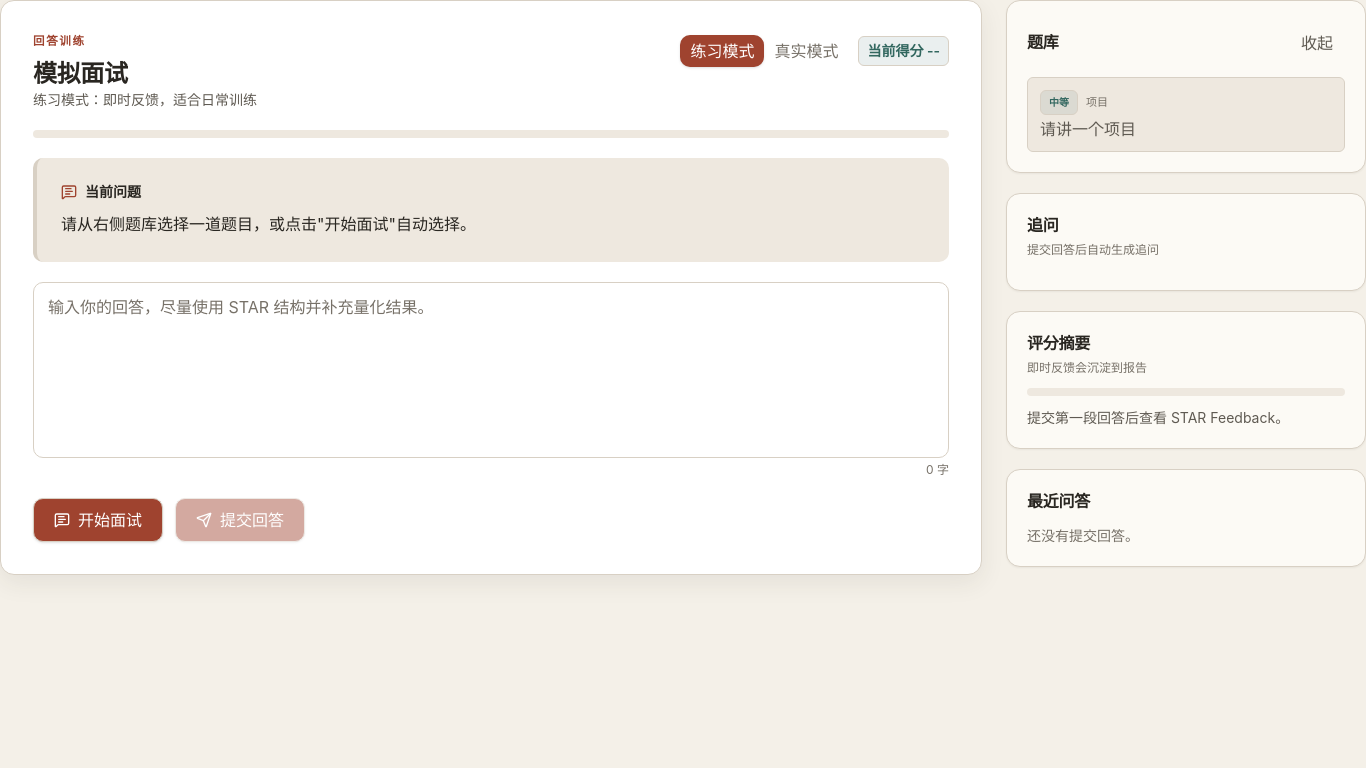
it: InterviewPage AI feedback › shows an AI fallback notice from scoring feedback
Click the button "开始面试": click(98, 520) [33,498,163,542]
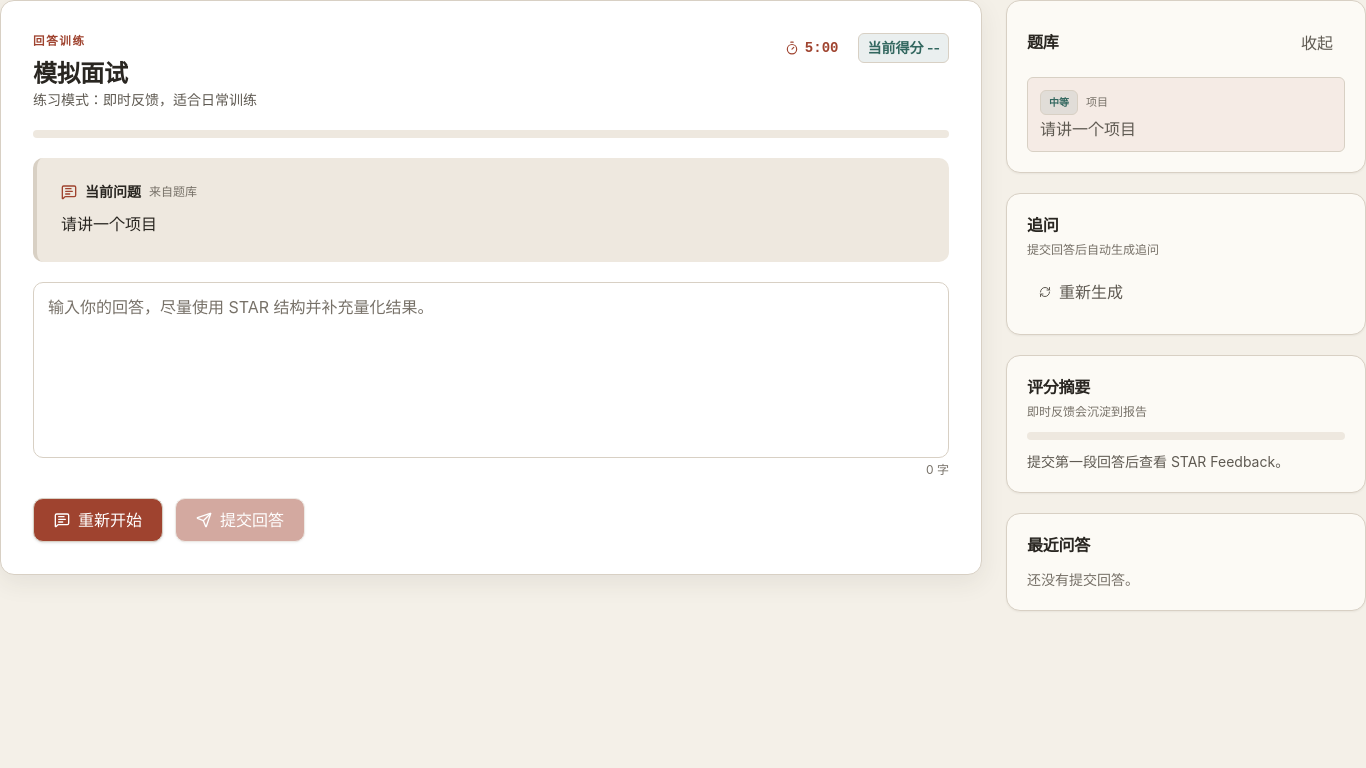
In the text box with placeholder "输入你的回答，尽量使用 STAR 结构并补充量化结果。": (491, 370) [33,282,949,458], type "这是我的回答"
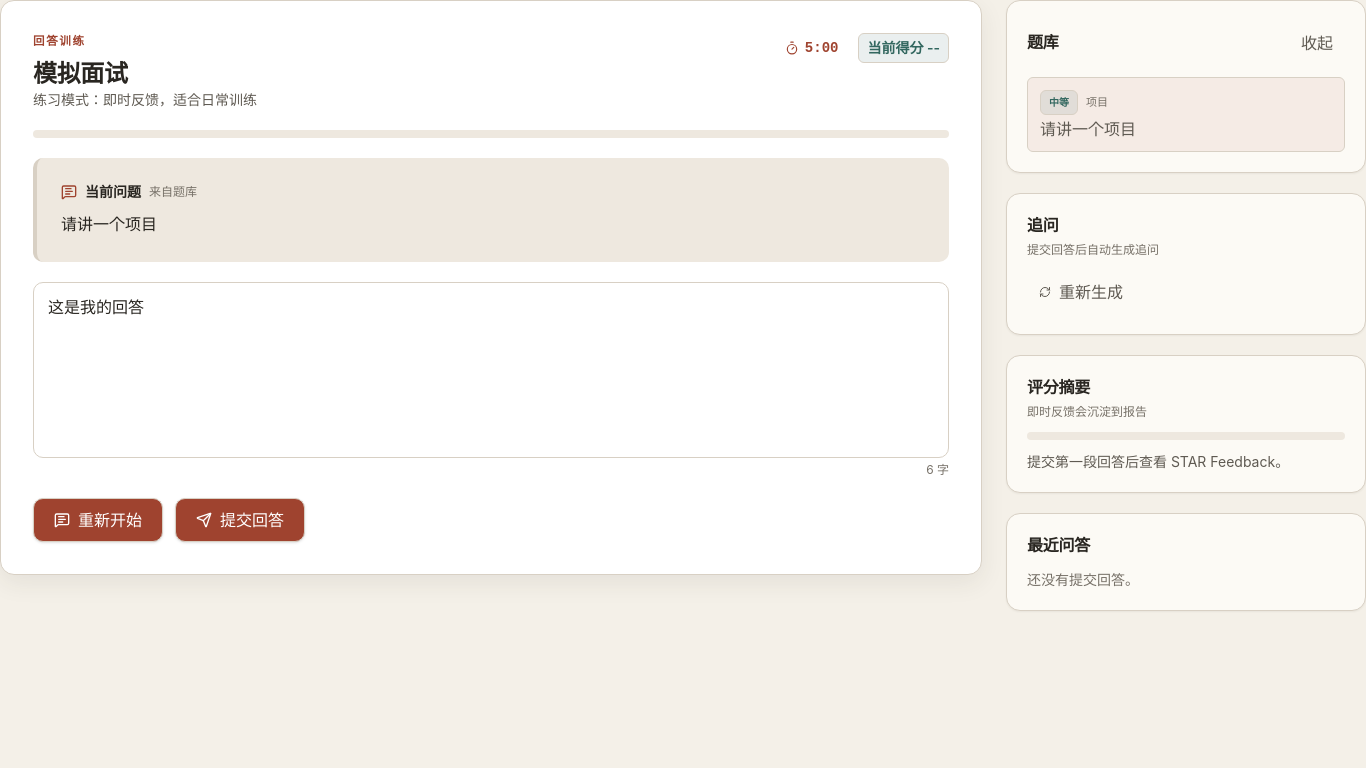
Click the button "提交回答": click(240, 520) [175,498,305,542]
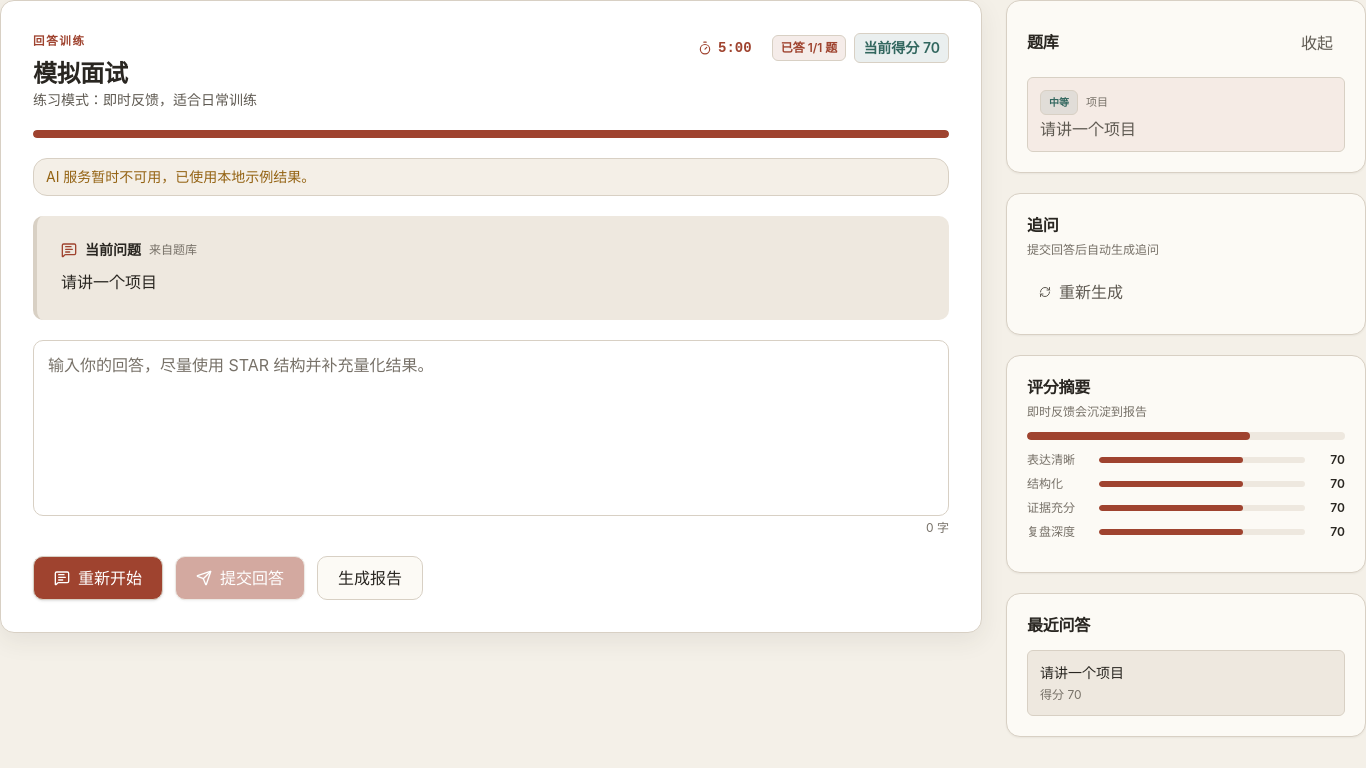
Expected: the text "AI 服务暂时不可用，已使用本地示例结果。" is shown, [33,158,949,196]
